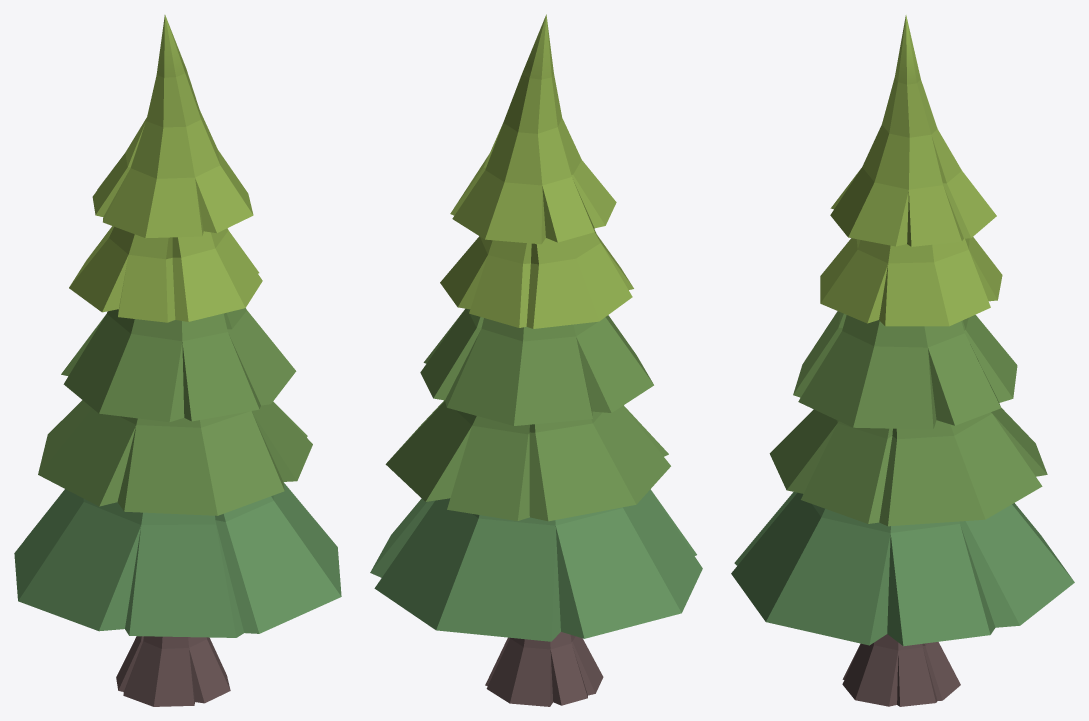
Rendered from Pine.fbx.
3 views of the same model, side by side, from view 1: azimuth 30°, elevation 25°; view 2: azimuth 150°, elevation 25°; view 3: azimuth 270°, elevation 25° (orthographic).
Visible parts, largest first — view 1: polySurface7670; view 2: polySurface7670; view 3: polySurface7670.
Boxes of the visible parts, x1,y1,x2,y2 form: polySurface7670: [14, 15, 341, 706]; polySurface7670: [370, 14, 702, 706]; polySurface7670: [731, 15, 1074, 706].
Bounding box in the file's own units: 0.0158 × 0.0341 × 0.0159.
